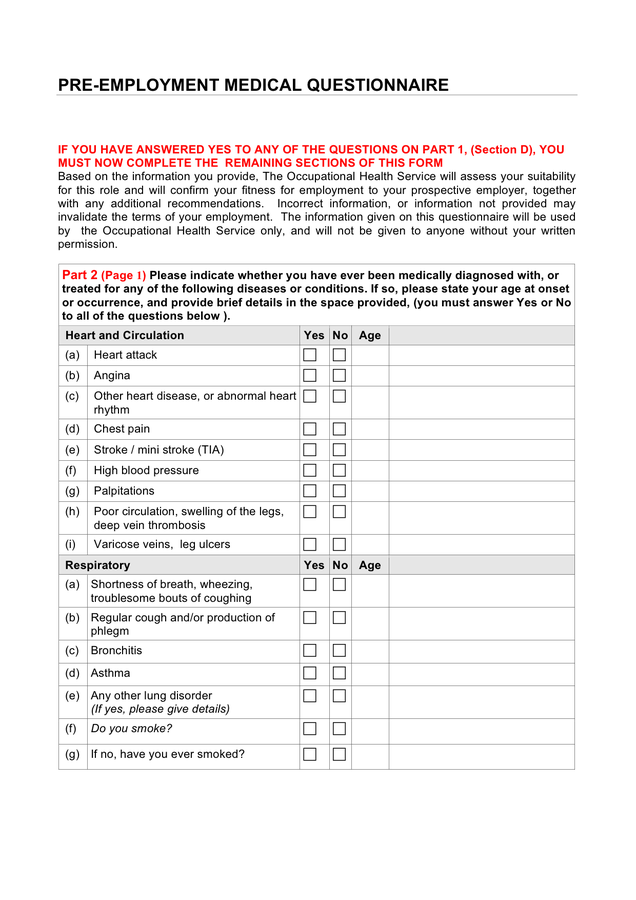checkbox: (299, 419, 321, 440), (329, 720, 350, 738), (299, 686, 318, 705), (330, 364, 348, 384), (302, 461, 322, 479), (328, 346, 349, 363), (299, 503, 320, 520), (302, 439, 318, 461), (331, 419, 349, 438), (330, 534, 348, 553), (300, 745, 320, 762), (331, 462, 349, 480), (330, 503, 347, 522), (329, 574, 348, 591), (331, 642, 348, 661), (301, 610, 320, 627), (300, 536, 319, 553), (300, 367, 319, 384), (301, 346, 320, 363), (301, 721, 321, 737), (330, 387, 348, 404), (331, 664, 348, 682), (332, 686, 349, 704), (331, 746, 349, 763), (302, 387, 319, 405), (302, 641, 321, 657), (302, 482, 320, 498), (300, 665, 319, 680), (302, 577, 319, 593), (331, 482, 347, 498), (332, 441, 347, 457), (331, 610, 346, 625)
textbox: (380, 601, 579, 645), (383, 381, 582, 424), (385, 682, 579, 725), (383, 495, 579, 537), (384, 569, 579, 610), (382, 657, 579, 696), (378, 633, 582, 669), (381, 739, 579, 776), (382, 713, 577, 748), (381, 339, 579, 371), (383, 412, 579, 443), (385, 528, 578, 559), (379, 475, 578, 505), (380, 433, 579, 463), (382, 456, 580, 486), (380, 360, 582, 389), (348, 496, 396, 539), (350, 680, 393, 722), (349, 570, 394, 610), (349, 384, 397, 421), (348, 604, 393, 643), (348, 630, 393, 667), (348, 431, 396, 465), (348, 739, 395, 773), (349, 713, 393, 748), (349, 340, 398, 370), (350, 362, 397, 393), (348, 457, 396, 486), (349, 658, 393, 689), (349, 413, 393, 442), (349, 478, 396, 504), (349, 533, 394, 560)
